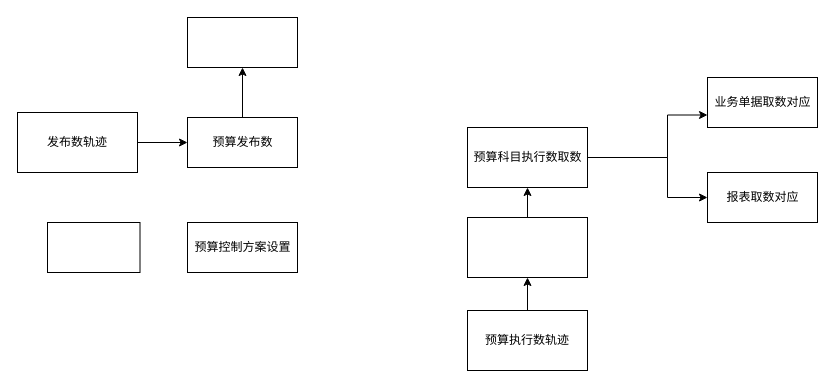
This 835x388 diagram has some shape labels left out. The centre of each missing label's shape, as x and y in pixels:
控制提示信息设置: point (93, 247)
预算发布方案: point (242, 42)
预算执行数: point (527, 247)
